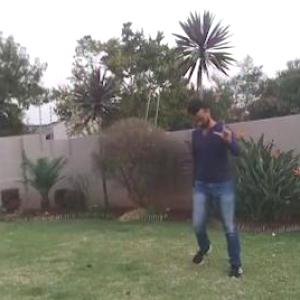land_hand: (215, 113, 238, 142)
